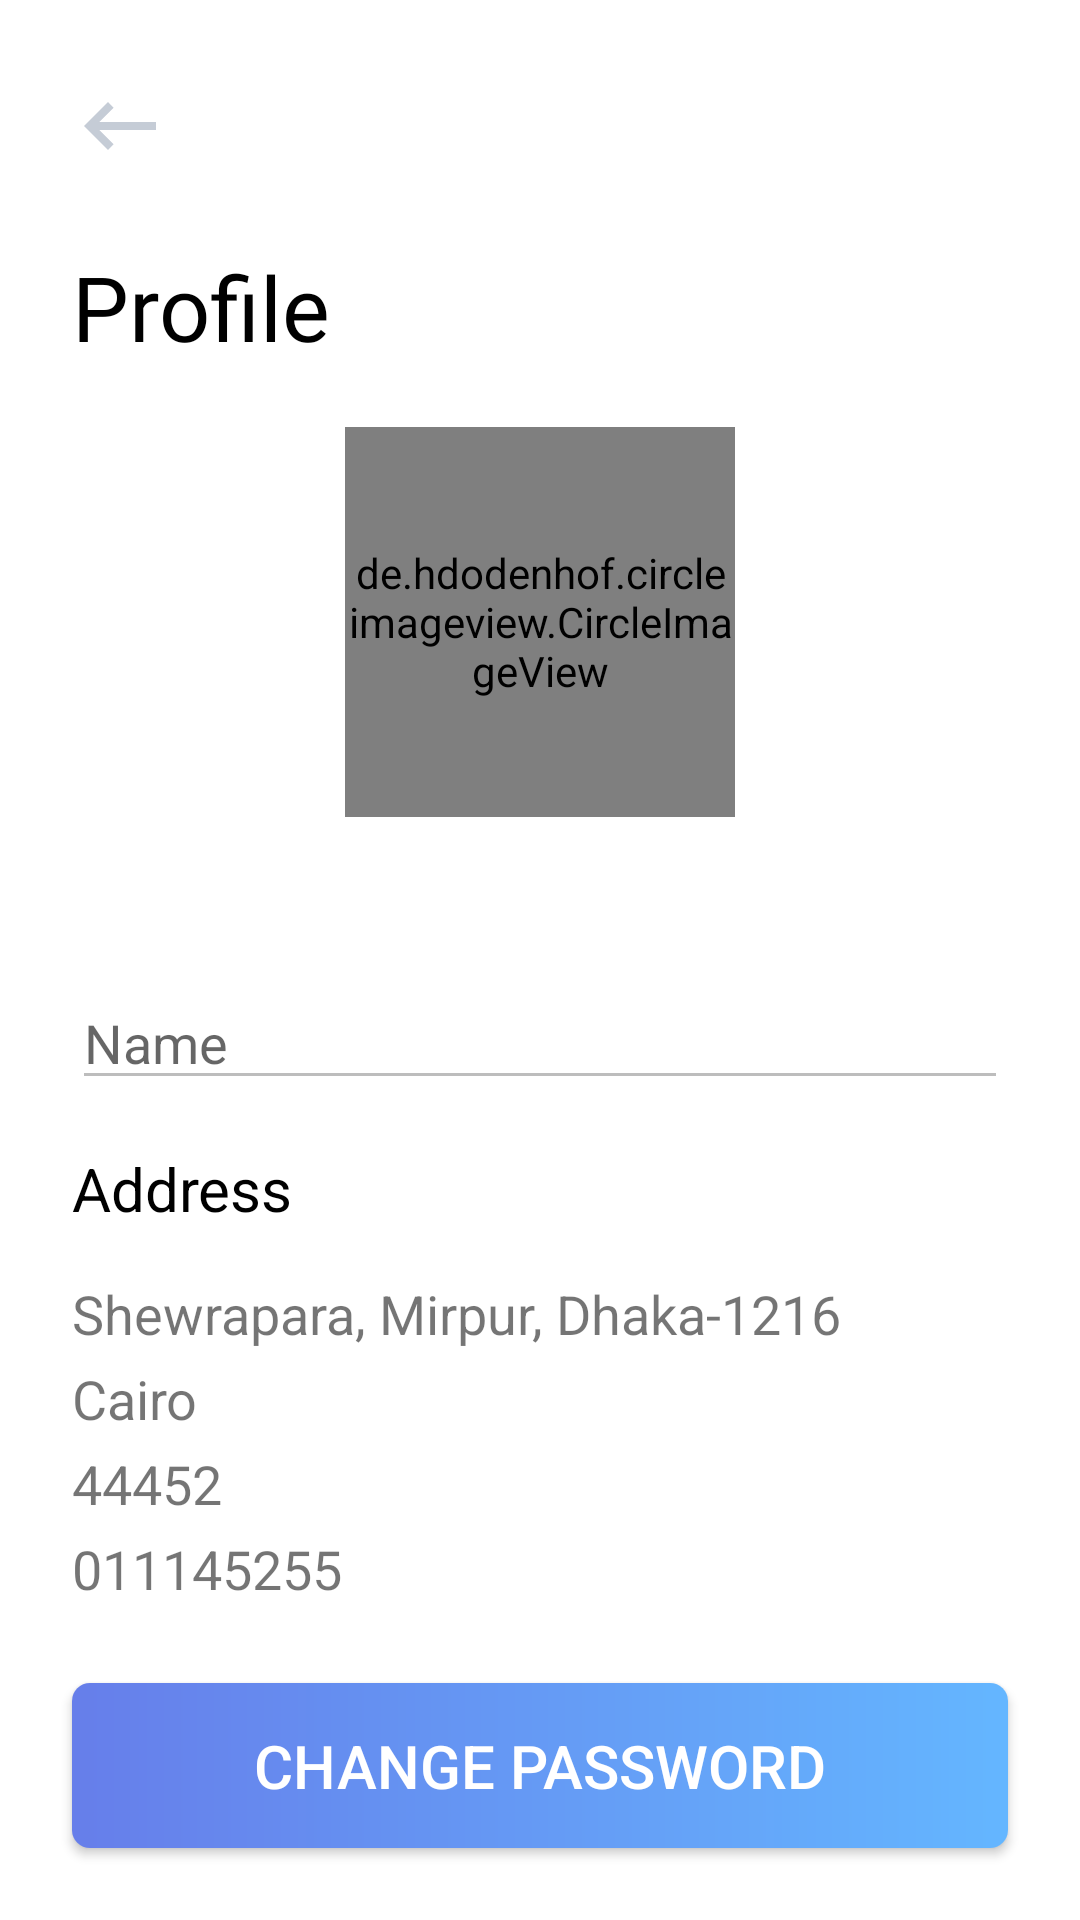

Screen size 1080x1920. Icon name, then its box in pixels as (left=x1, top=y1, right=x2, bottom=y2):
keyboard backspace: (left=84, top=102, right=156, bottom=150)
